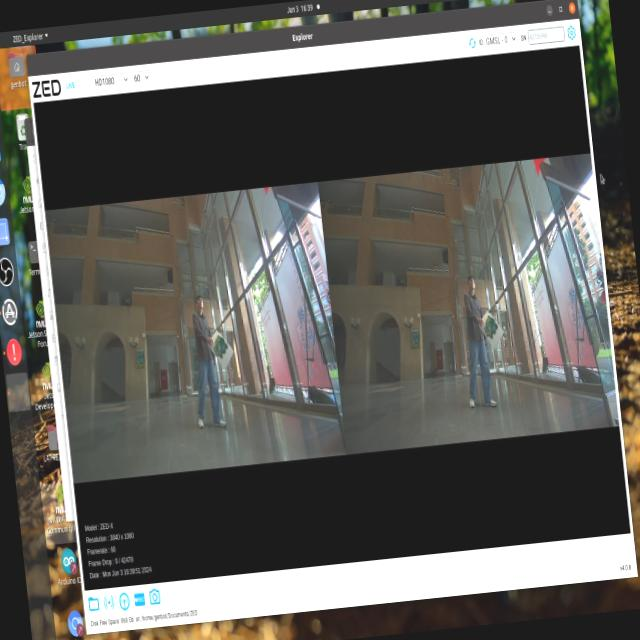green: (207, 326, 235, 366), (481, 304, 501, 344)
